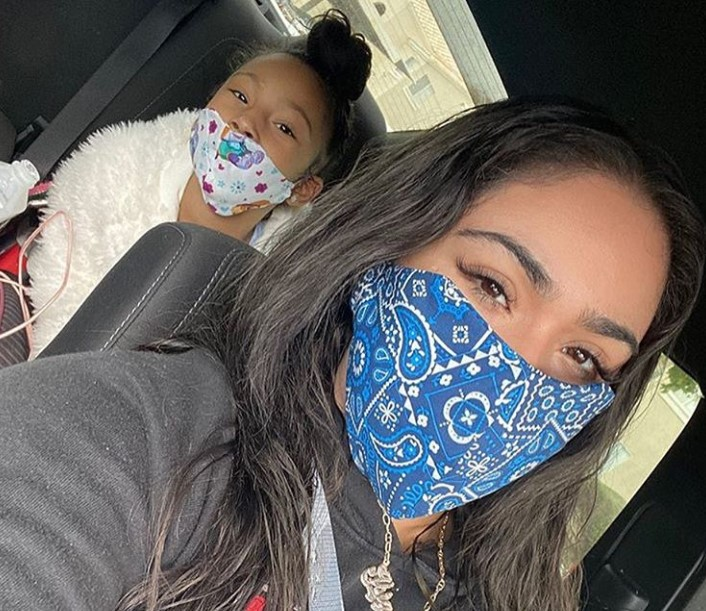face_with_mask: (337, 117, 688, 529), (188, 57, 330, 221)
